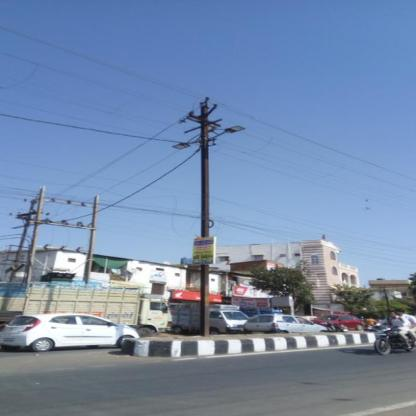Electrical Pole: (168, 96, 245, 334)
